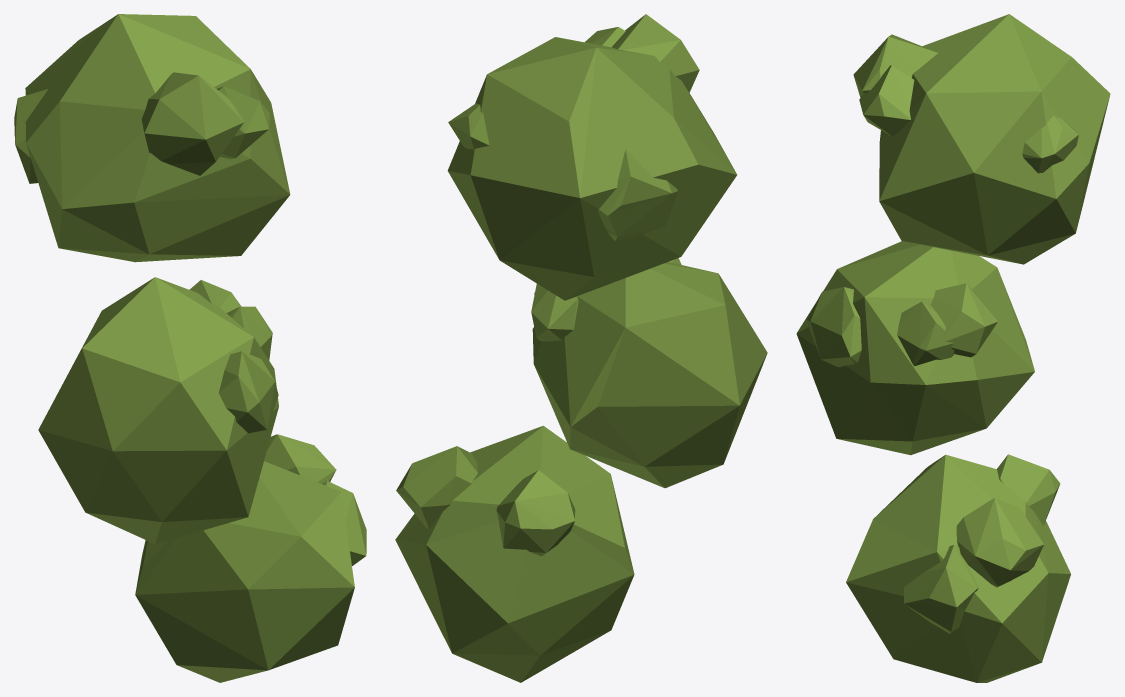
Rendered from Leaves_A.glb.
3 views of the same model, side by side, from view 1: azimuth 30°, elevation 25°; view 2: azimuth 150°, elevation 25°; view 3: azimuth 270°, elevation 25° (orthographic). The views are drawn at different scales.
Visible parts, largest first — view 1: Leaves; view 2: Leaves; view 3: Leaves.
Boxes of the visible parts, <box> form: Leaves: <box>14,14,366,682</box>; Leaves: <box>395,14,767,682</box>; Leaves: <box>796,14,1110,682</box>.
Bounding box in the file's own units: 9.23 × 18.31 × 8.29.
